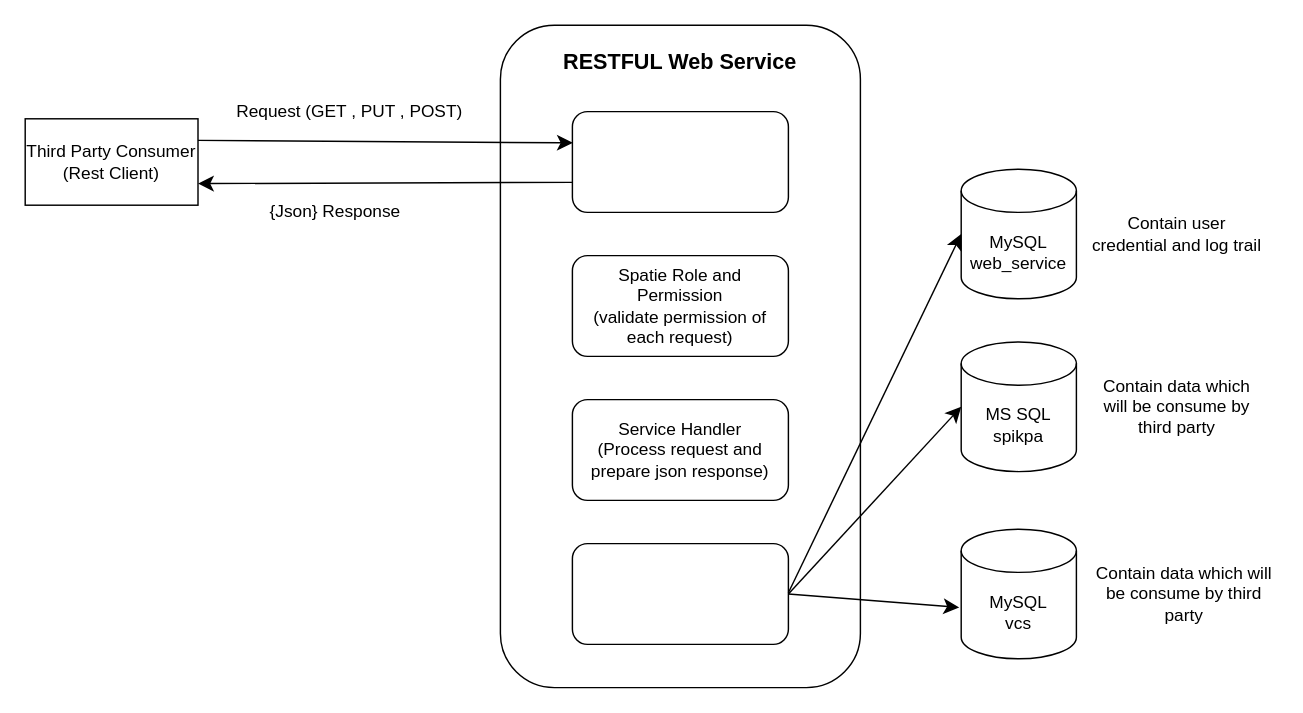
This 1303x713 diagram has some shape labels left out. Each missing label, with the centre of its shape:
Database Handler (perform action on databse): [679,593]
REST Request Handler: [679,161]
